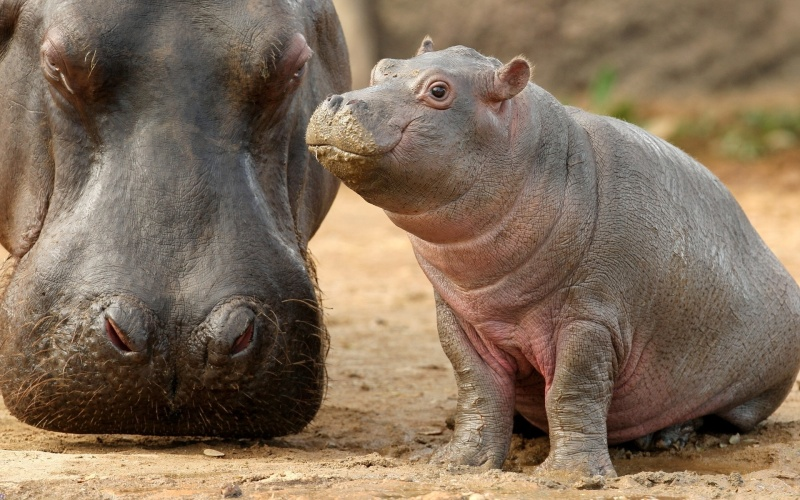hipopotamo: (300, 27, 800, 486), (0, 0, 338, 447)
